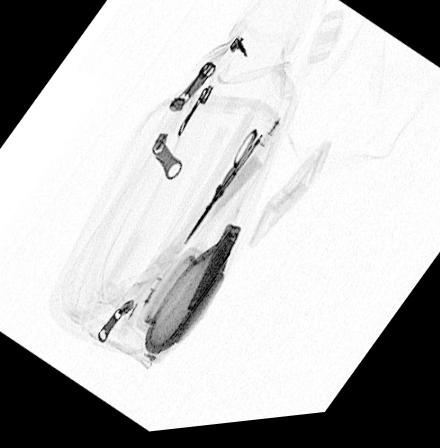Scissors: (180, 131, 263, 248)
